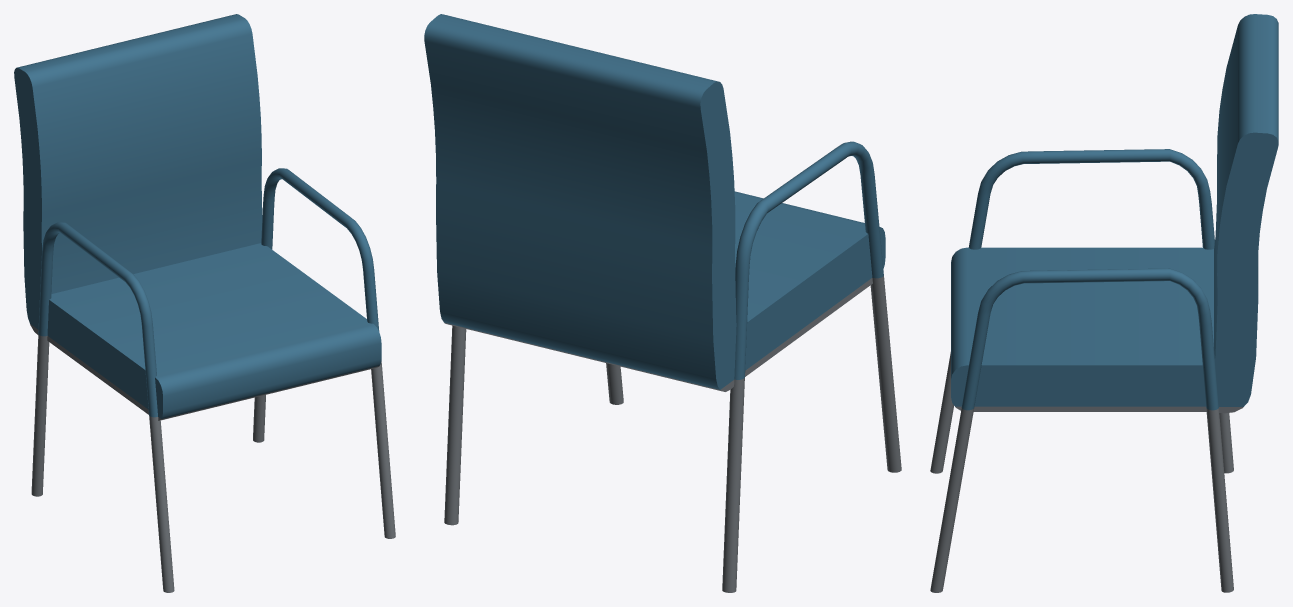
Rendered from hp_chair.glb.
3 renders of one model, left to right at view 1: azimuth 30°, elevation 25°; view 2: azimuth 150°, elevation 25°; view 3: azimuth 270°, elevation 25°, orthographic. The views are drawn at different scales.
Parts seen in each view (by area): view 1: Chair; view 2: Chair; view 3: Chair.
Boxes of the visible parts, x1=… form: Chair: x1=14, y1=14, x2=395, y2=592; Chair: x1=424, y1=14, x2=901, y2=592; Chair: x1=930, y1=14, x2=1278, y2=592.
Size of the model in its own units: 0.5844 by 1 by 0.6905.
